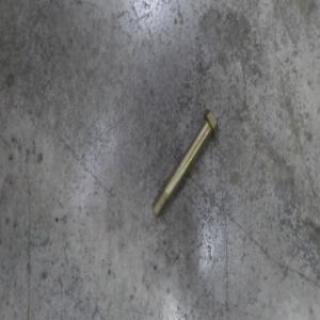Bolttrack_idkeyframe: (150, 104, 218, 218)
